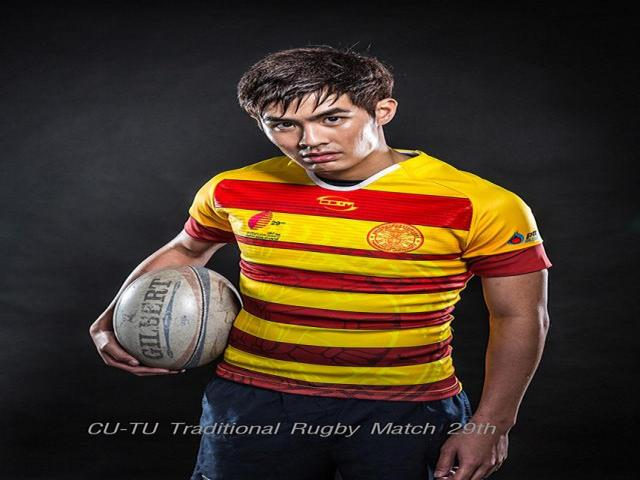round ball: (114, 265, 241, 370)
